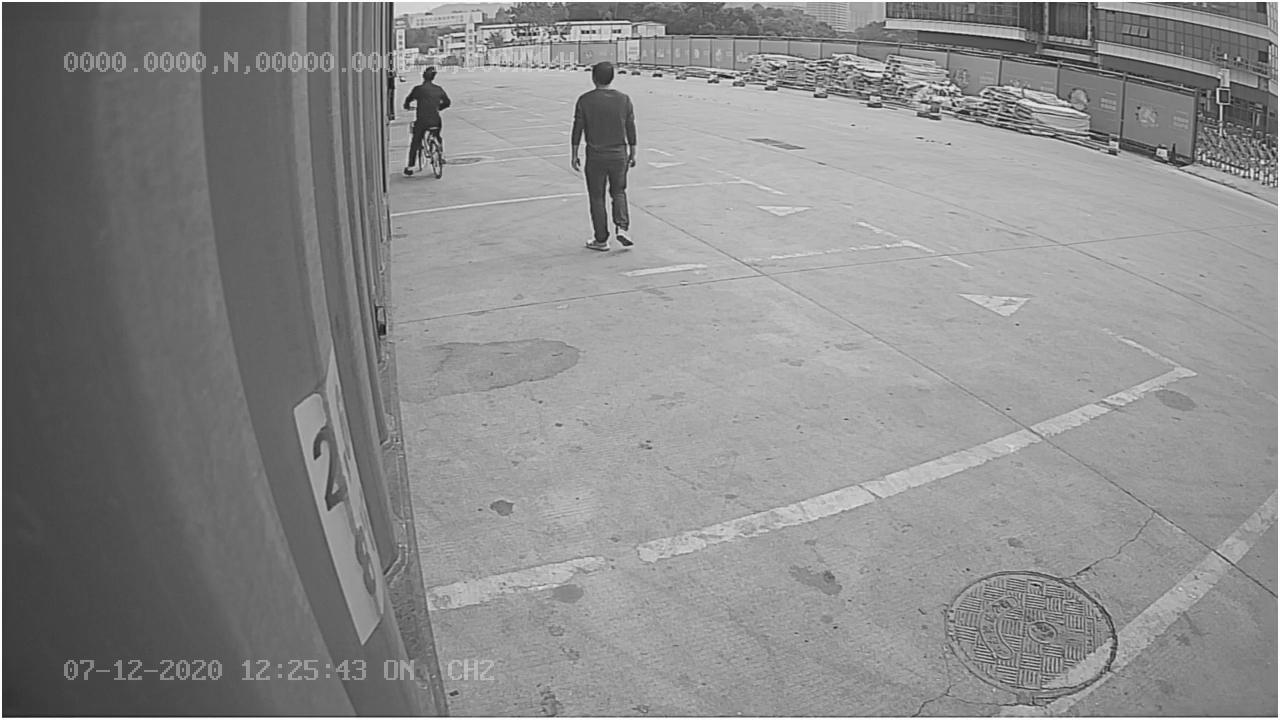person: (566, 58, 642, 256)
